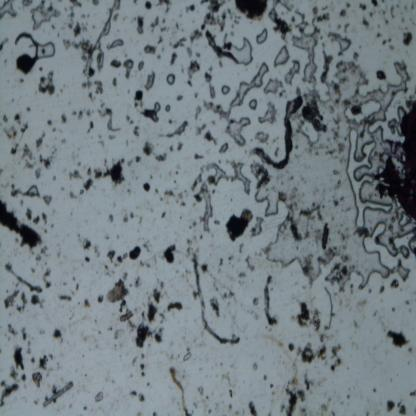Air bubble: (347, 67, 415, 281), (255, 184, 295, 273), (204, 102, 250, 148), (228, 61, 269, 112), (293, 26, 319, 84), (211, 160, 252, 193), (223, 38, 254, 66), (30, 6, 62, 30), (200, 183, 214, 232), (258, 101, 278, 126), (272, 45, 292, 67), (332, 33, 352, 54), (264, 76, 284, 96), (37, 39, 56, 60), (287, 59, 300, 86), (0, 0, 19, 18), (254, 130, 270, 146), (24, 184, 41, 198), (144, 71, 156, 90), (31, 370, 44, 387), (255, 28, 268, 44), (109, 37, 125, 50), (166, 72, 176, 86), (220, 84, 232, 95), (219, 142, 229, 155), (208, 86, 217, 100), (249, 97, 258, 111), (164, 103, 171, 115), (154, 102, 160, 113)
Background material: (81, 1, 124, 101), (0, 200, 43, 251), (92, 155, 129, 196), (168, 366, 192, 416), (14, 30, 38, 74), (199, 0, 228, 32), (42, 380, 74, 408), (93, 103, 120, 136), (295, 301, 322, 333), (295, 342, 329, 364), (325, 127, 348, 158), (280, 388, 306, 414), (330, 79, 345, 119), (140, 236, 159, 267), (106, 280, 130, 304), (62, 37, 94, 55), (282, 358, 301, 388), (318, 246, 348, 265), (323, 284, 335, 329), (63, 0, 79, 32), (387, 329, 411, 350), (136, 322, 154, 350), (299, 201, 323, 222), (0, 380, 19, 406), (38, 70, 56, 97), (319, 48, 333, 82), (2, 113, 19, 139), (166, 121, 188, 140), (318, 222, 332, 251), (329, 342, 342, 373), (186, 61, 200, 89), (288, 218, 304, 242), (2, 287, 18, 309), (187, 230, 199, 259), (141, 107, 161, 124), (129, 243, 145, 264), (164, 242, 178, 266), (312, 6, 330, 24), (120, 308, 136, 328), (328, 264, 348, 280), (353, 294, 369, 314), (156, 187, 177, 202), (167, 35, 188, 50), (252, 214, 264, 239), (351, 223, 371, 238), (189, 172, 204, 192), (209, 297, 222, 319), (13, 345, 24, 371), (42, 265, 53, 290), (303, 252, 314, 276), (147, 302, 159, 324), (91, 240, 104, 260), (126, 150, 142, 166), (386, 2, 400, 20), (15, 292, 27, 313), (244, 253, 256, 274), (17, 115, 30, 134), (18, 100, 34, 115), (167, 300, 184, 314), (35, 129, 46, 150), (123, 58, 134, 79), (30, 293, 45, 308), (204, 130, 218, 146), (156, 1, 172, 15), (143, 43, 159, 57), (130, 388, 146, 402), (315, 398, 329, 414), (151, 285, 162, 305), (39, 354, 51, 372), (56, 291, 74, 303), (131, 88, 143, 106), (400, 31, 414, 46), (38, 154, 53, 168), (6, 320, 19, 336), (10, 182, 23, 198), (186, 30, 203, 42), (102, 260, 114, 277), (338, 227, 348, 247), (302, 372, 312, 392), (81, 233, 92, 251), (143, 139, 154, 157), (223, 286, 237, 300), (122, 112, 136, 126), (82, 177, 96, 191), (35, 248, 49, 262), (154, 150, 168, 164), (194, 123, 208, 137), (0, 38, 13, 53), (23, 144, 35, 160), (136, 16, 145, 36), (134, 273, 144, 291), (69, 168, 84, 180), (385, 398, 396, 414), (108, 72, 119, 88), (375, 70, 387, 84), (117, 250, 129, 264), (248, 400, 259, 415), (74, 110, 92, 119), (74, 21, 84, 37), (53, 325, 61, 345), (9, 366, 19, 382), (315, 375, 327, 388), (332, 178, 345, 190), (21, 321, 28, 343), (110, 59, 124, 70), (175, 190, 186, 204), (150, 16, 161, 30), (390, 276, 400, 291), (96, 82, 106, 97), (210, 215, 222, 227), (382, 38, 394, 50), (42, 193, 54, 205), (9, 142, 20, 155), (154, 328, 164, 342), (200, 261, 210, 275), (25, 336, 32, 356), (24, 207, 34, 221), (191, 152, 205, 162), (398, 401, 408, 415), (194, 105, 203, 120), (122, 213, 135, 223), (86, 120, 96, 133), (79, 255, 92, 265), (198, 383, 208, 396), (96, 292, 106, 305), (59, 112, 69, 125), (83, 296, 92, 310), (182, 349, 191, 363), (237, 270, 246, 284), (132, 124, 140, 139), (22, 160, 34, 170), (184, 4, 196, 14), (330, 194, 340, 206), (373, 29, 383, 41), (93, 391, 103, 403), (41, 211, 49, 226), (159, 206, 168, 219), (106, 250, 115, 263), (85, 166, 94, 179), (34, 166, 42, 180), (170, 52, 178, 66), (351, 106, 362, 116), (250, 360, 261, 370), (166, 142, 176, 153), (174, 92, 184, 103), (107, 132, 118, 142), (140, 360, 146, 378), (362, 17, 371, 29), (358, 1, 367, 13), (142, 181, 151, 193), (370, 0, 380, 10), (352, 52, 362, 62), (136, 61, 145, 72), (68, 192, 79, 201), (260, 370, 268, 382), (216, 258, 224, 270), (287, 340, 295, 352), (239, 239, 245, 255), (204, 72, 212, 84), (176, 142, 185, 152), (378, 284, 386, 295), (138, 215, 145, 227), (409, 385, 416, 397), (33, 215, 42, 224), (336, 192, 346, 200), (228, 252, 234, 265), (228, 386, 235, 397), (268, 379, 275, 390), (338, 10, 347, 18), (254, 296, 260, 308), (390, 302, 396, 314), (46, 118, 53, 128), (402, 298, 410, 306), (144, 2, 152, 10), (19, 374, 27, 382), (187, 48, 193, 58), (352, 320, 358, 330), (342, 22, 349, 30), (30, 356, 37, 364), (158, 36, 165, 44), (108, 213, 113, 224), (52, 173, 58, 182), (18, 77, 25, 84), (82, 404, 88, 412), (76, 280, 80, 292), (335, 168, 340, 177), (328, 410, 335, 416), (106, 327, 114, 332), (348, 204, 353, 212), (50, 223, 56, 229), (346, 391, 350, 400), (372, 387, 377, 394), (151, 409, 156, 416), (365, 410, 369, 416), (350, 285, 353, 293), (228, 403, 232, 409)
Cellulose filter fibre: (190, 254, 241, 347), (252, 95, 304, 171), (3, 264, 42, 295), (207, 30, 238, 66), (263, 270, 280, 327), (302, 102, 329, 132)
Fragment: (226, 213, 248, 238)
Pen: (386, 102, 416, 221)
